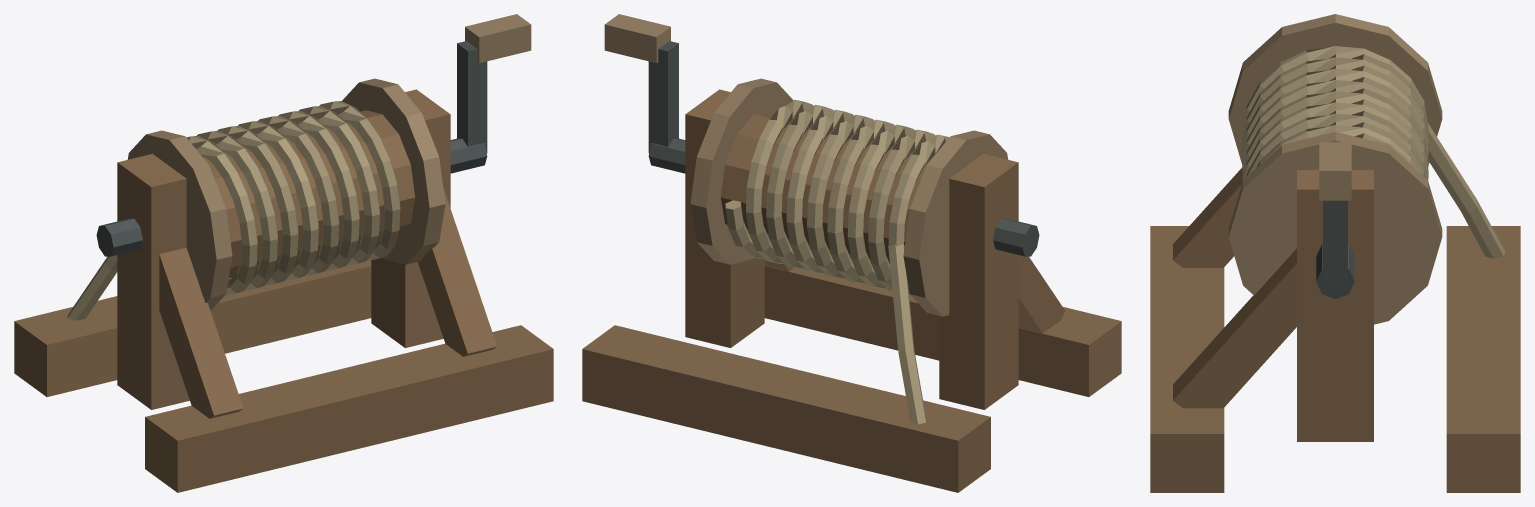
File: hauling-winch.glb
The picture shows the model from 3 angles, left to right: view 1: azimuth 30°, elevation 25°; view 2: azimuth 150°, elevation 25°; view 3: azimuth 270°, elevation 25°; orthographic projection. The views are drawn at different scales.
Visible parts, largest first — view 1: hauling-winch; view 2: hauling-winch; view 3: hauling-winch.
Part boxes in pixels (x1=…): hauling-winch: x1=14, y1=14, x2=553, y2=492; hauling-winch: x1=582, y1=14, x2=1121, y2=492; hauling-winch: x1=1150, y1=14, x2=1520, y2=492.
Bounding box in the file's own units: 1.89 × 1.3 × 1.25.
